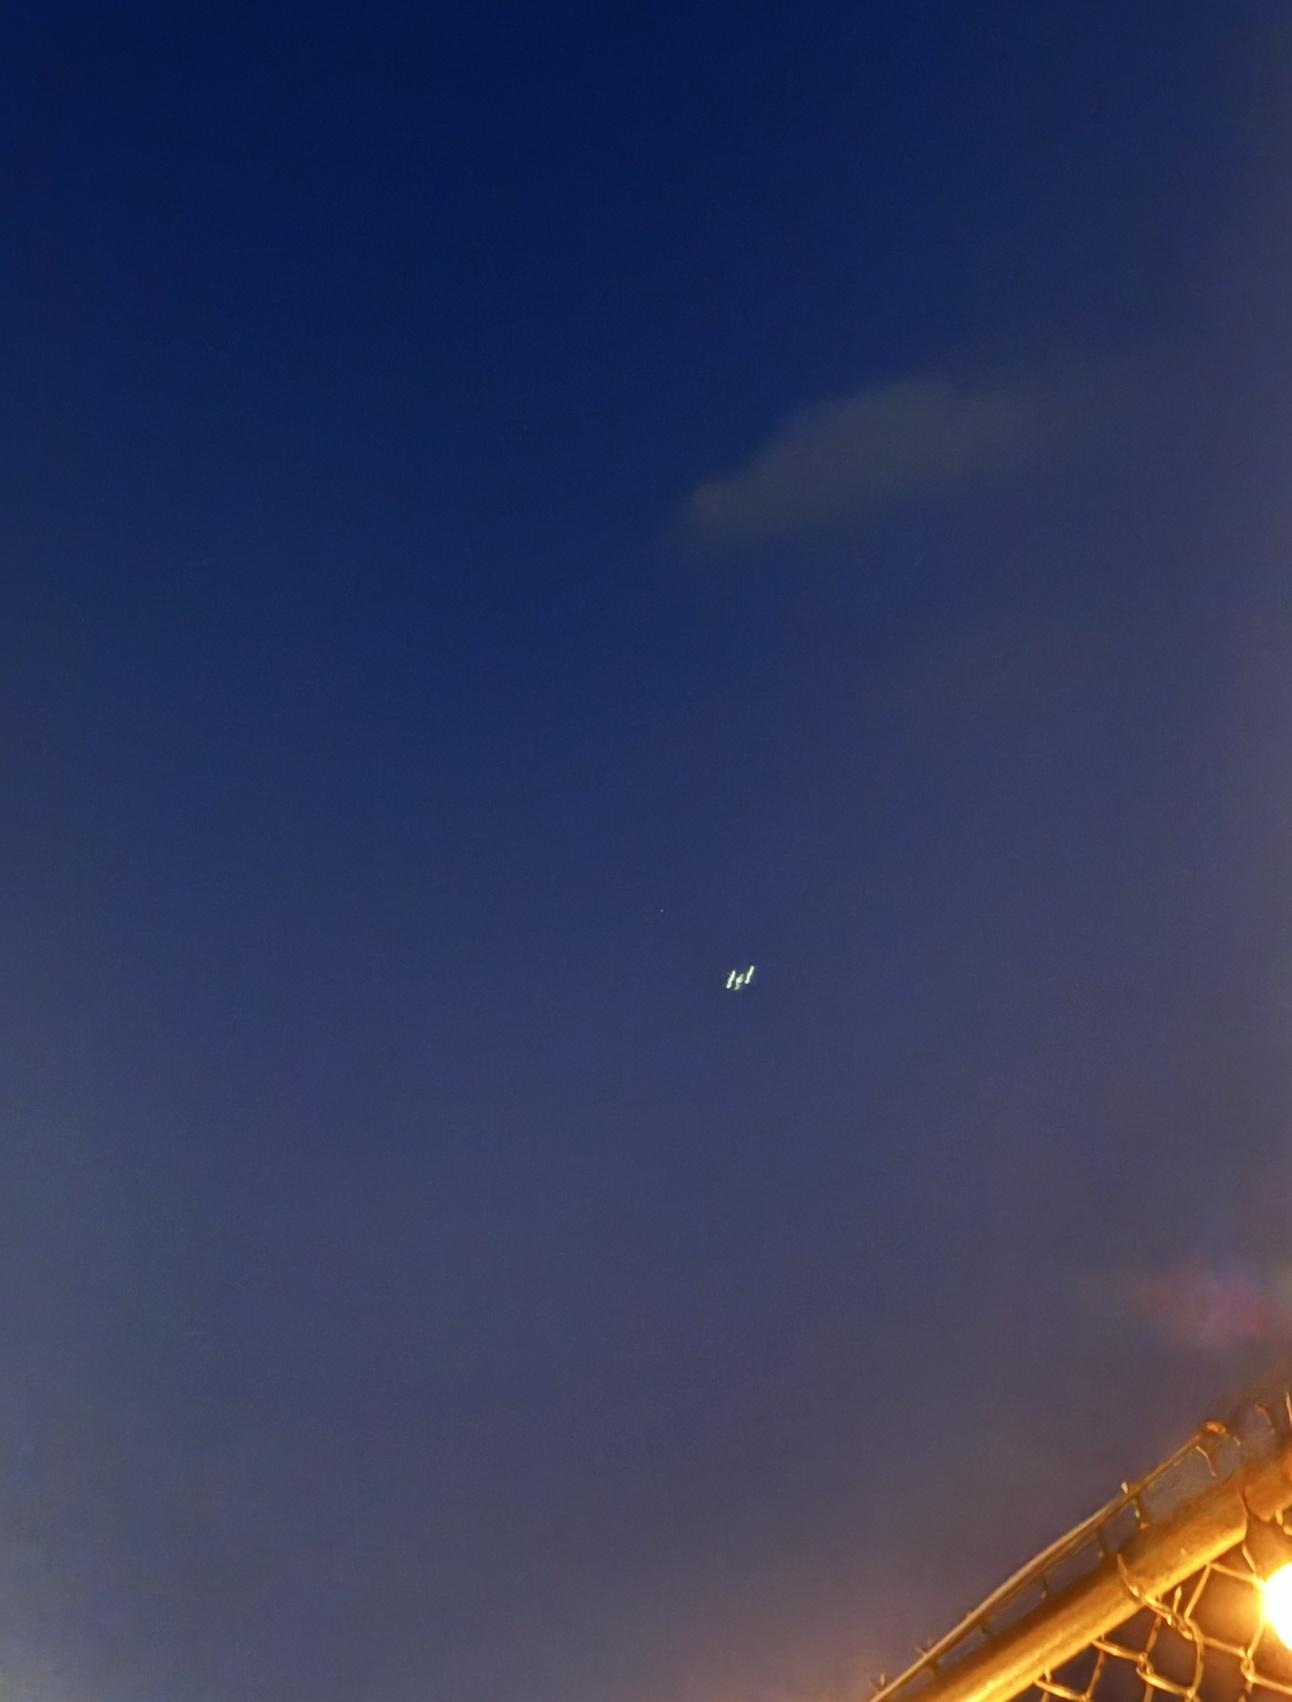Plane: (708, 943, 788, 1013)
